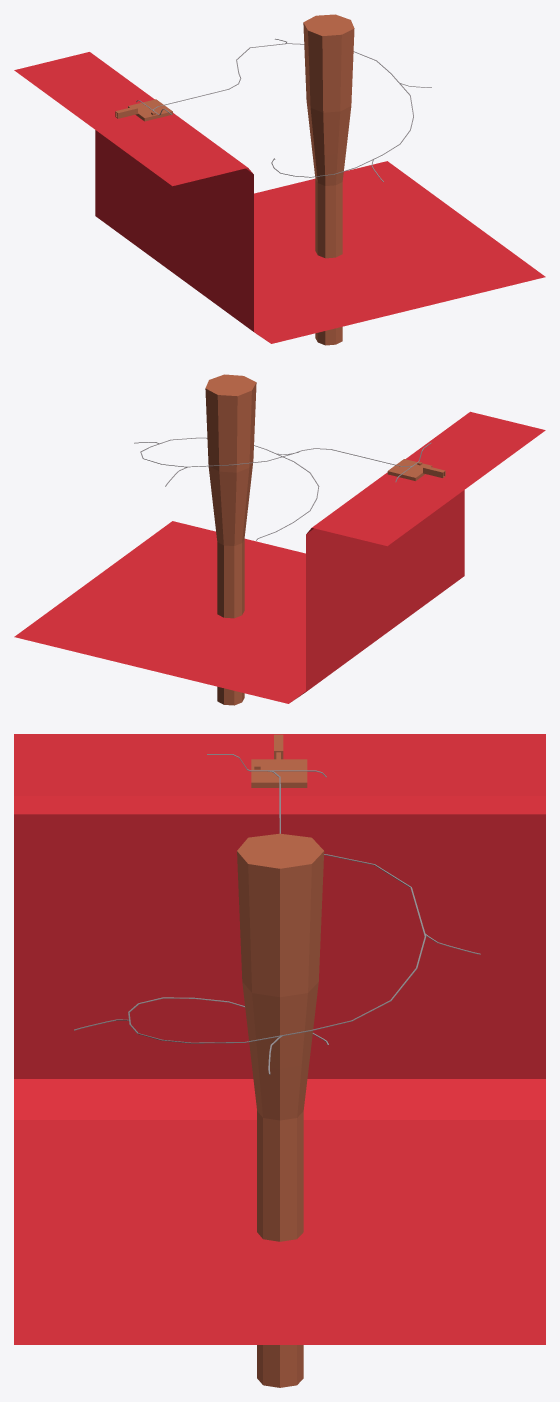
The model's file is wip_dungeon2_blockout.glb.
3 renders of one model, top to bottom at view 1: azimuth 30°, elevation 25°; view 2: azimuth 150°, elevation 25°; view 3: azimuth 270°, elevation 25°, orthographic. The views are drawn at different scales.
Parts seen in each view (by area): view 1: Regular_Blockout; view 2: Regular_Blockout; view 3: Regular_Blockout.
Boxes of the visible parts, x1,y1,x2,y2 form: Regular_Blockout: [14, 14, 545, 345]; Regular_Blockout: [14, 374, 545, 705]; Regular_Blockout: [14, 734, 545, 1387].
Size of the model in its own units: 239 by 192 by 175.
